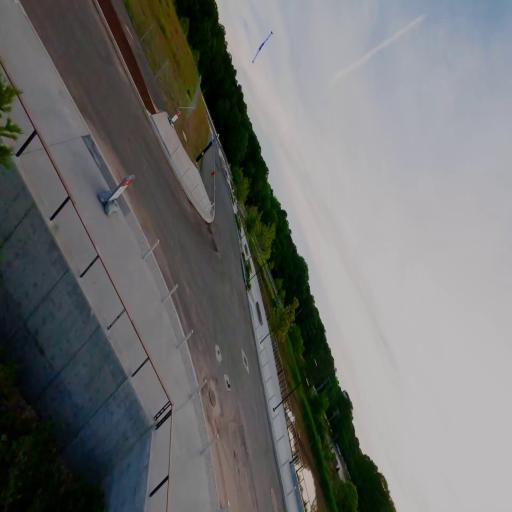uav: (250, 26, 274, 67)
